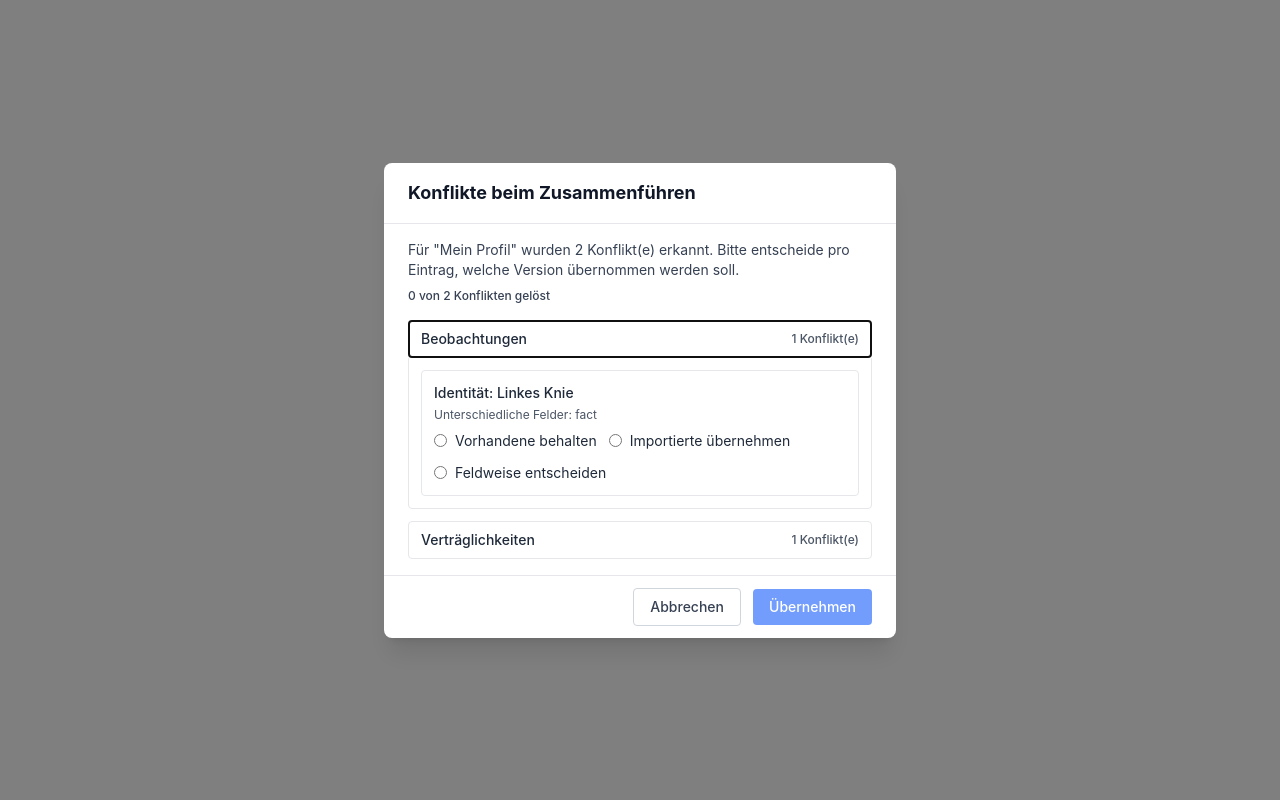
Test: ConflictResolutionDialog › Q2 discipline: confirm disabled until every conflict has a pick
Expected: the button with test id "conflict-resolution-dialog-confirm" is disabled, [753, 588, 872, 624]
What coordinates should you click on to do the following:
click the radio button with test id "conflict-row-obs-existing-1-mine"
I would click on:
 (440, 440)
Its box is [434, 434, 447, 447].
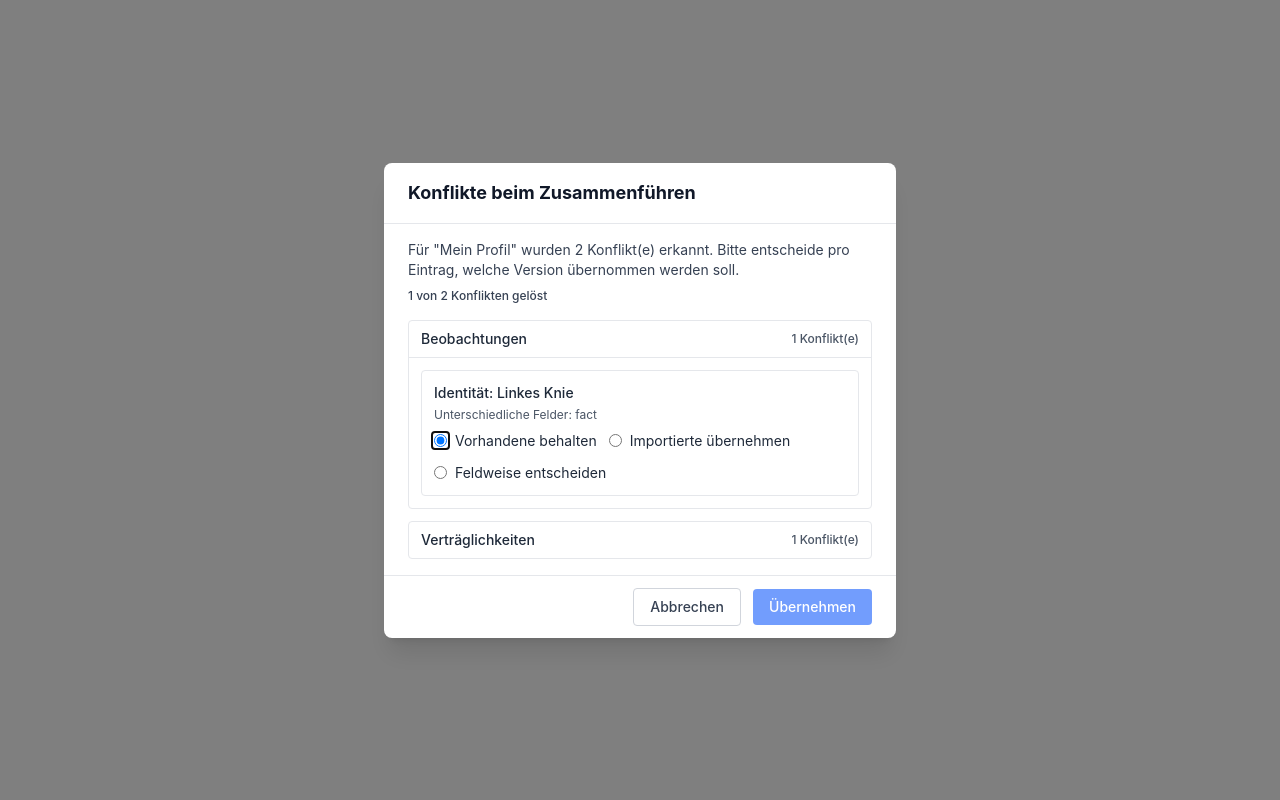
Expected: the button with test id "conflict-resolution-dialog-confirm" is disabled, [753, 588, 872, 624]
Note: Expand supplements + pick theirs.
What coordinates should you click on to do the following:
click the button with test id "conflict-resolution-section-toggle-supplements"
I would click on:
 (478, 539)
Its box is [409, 522, 871, 558].
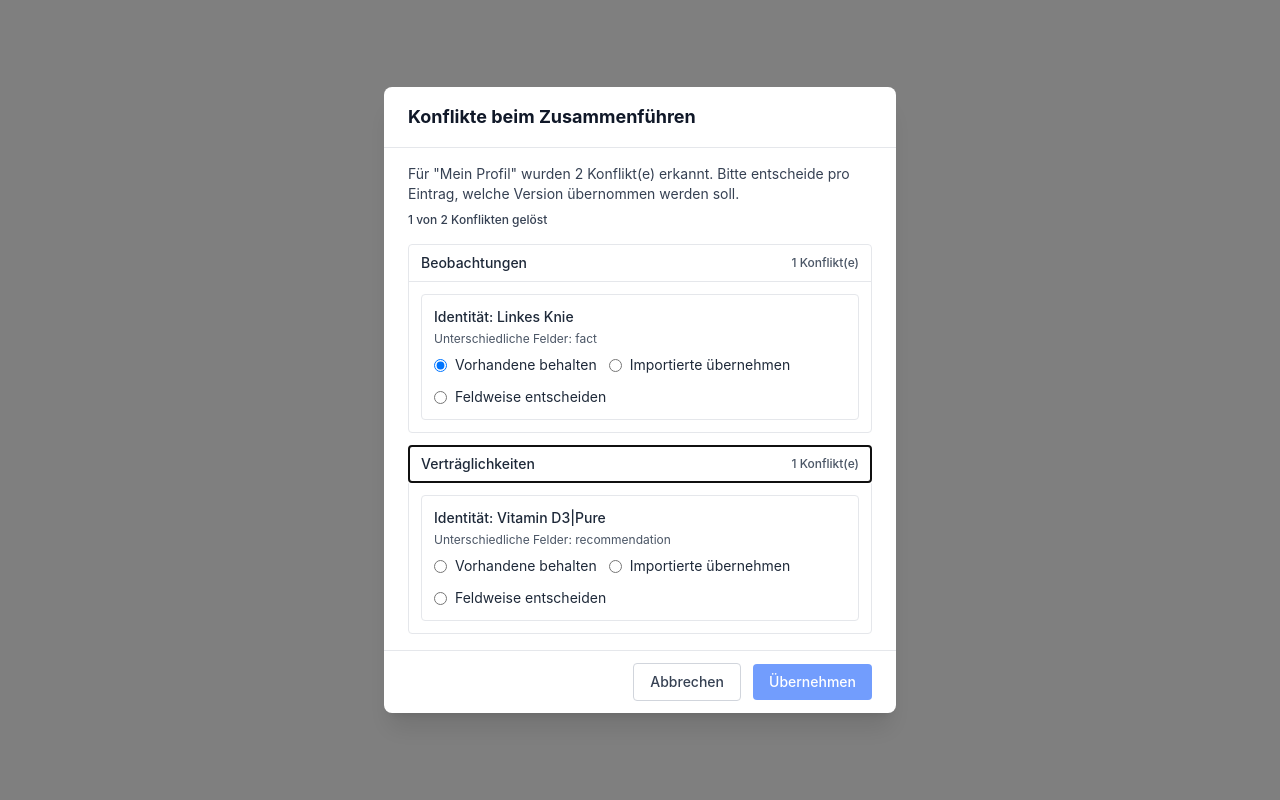
What coordinates should you click on to do the following:
click the radio button with test id "conflict-row-sup-existing-1-theirs"
I would click on:
 (615, 566)
Its box is [609, 560, 622, 572].
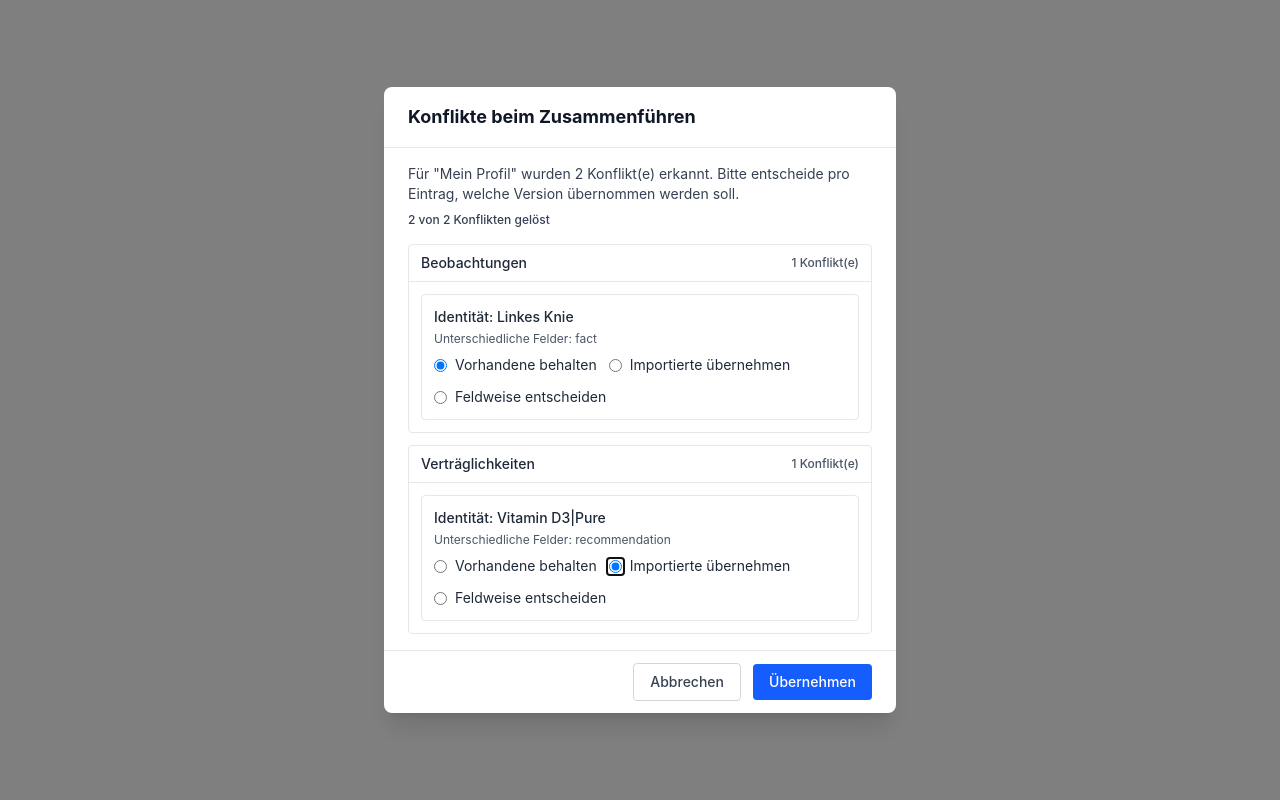
Result: the button with test id "conflict-resolution-dialog-confirm" is enabled at [753, 664, 872, 700]
